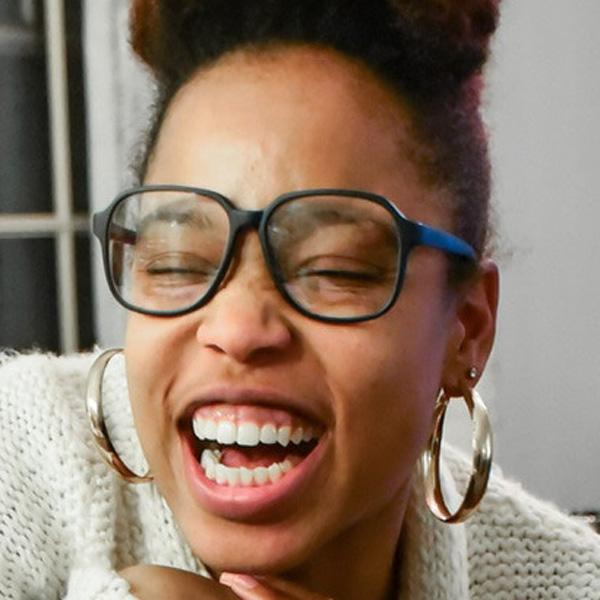Eyes: (294, 244, 391, 308), (134, 241, 222, 297)
